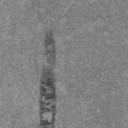oxide scale of plate system: (38, 30, 58, 128)
